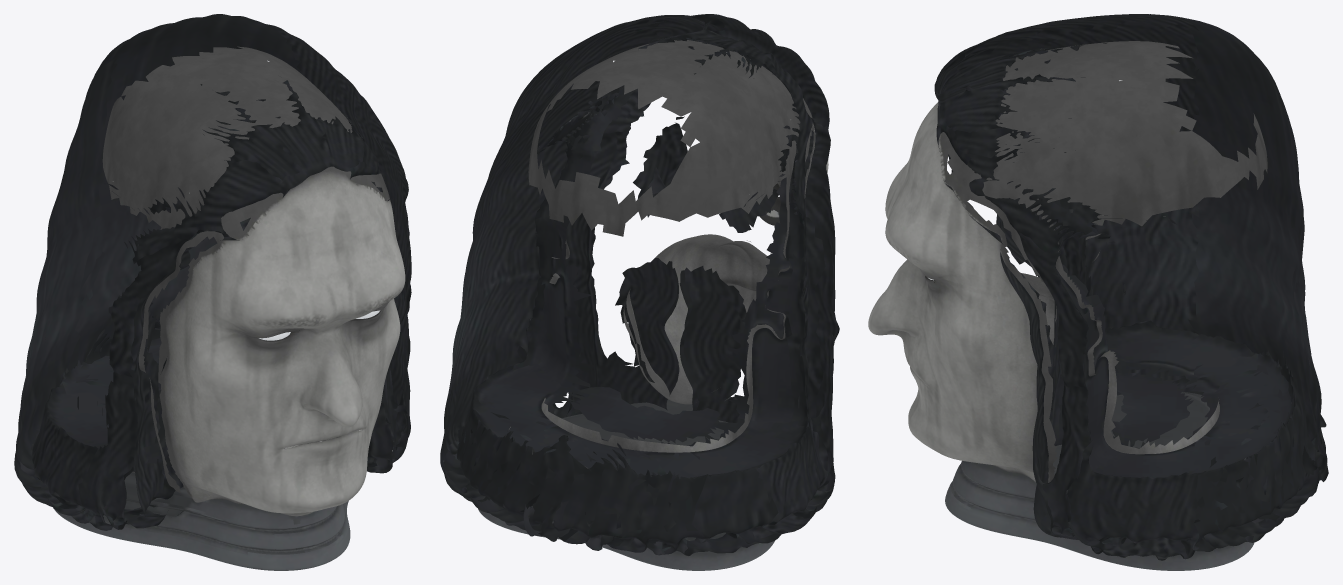
The model's file is faust_head.33fc019b.glb.
3 views of the same model, side by side, from view 1: azimuth 30°, elevation 25°; view 2: azimuth 150°, elevation 25°; view 3: azimuth 270°, elevation 25° (orthographic). The views are drawn at different scales.
Parts seen in each view (by area): view 1: lod0; view 2: lod0; view 3: lod0.
Boxes of the visible parts, left/top/right/bottom form: lod0: left=14, top=14, right=411, bottom=570; lod0: left=440, top=14, right=839, bottom=570; lod0: left=868, top=14, right=1328, bottom=570.
Size of what is drawn, in the model's own units: 720 by 897 by 785.
Materials: 1 (1 with a texture image).
